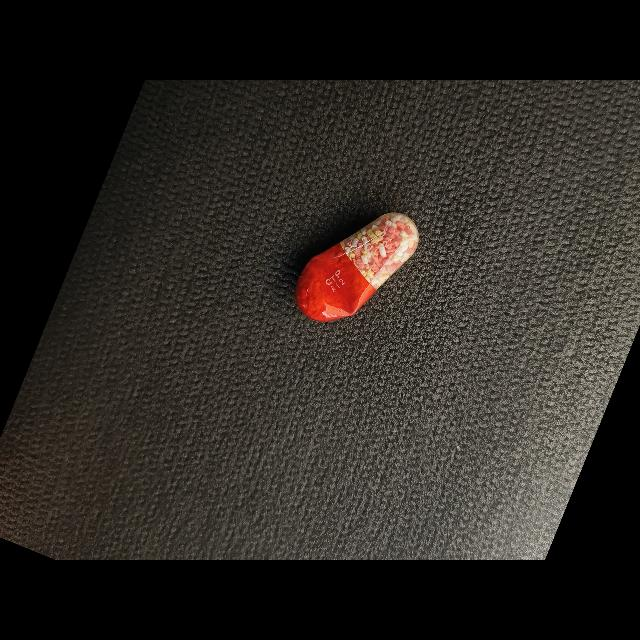Defective Capsule: (295, 212, 419, 322)
